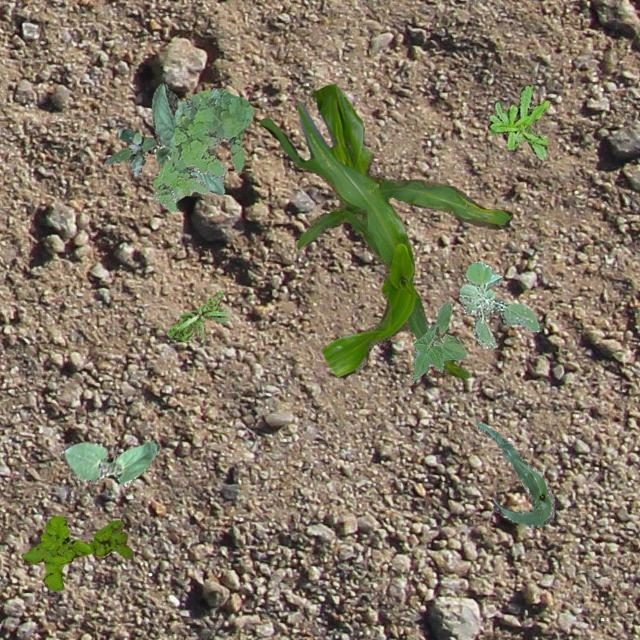crop: (258, 82, 512, 378), (150, 82, 223, 194), (476, 422, 554, 526), (410, 299, 466, 382), (60, 438, 158, 484)
weed: (152, 86, 252, 210), (21, 514, 132, 590), (458, 260, 538, 348), (486, 84, 548, 158), (166, 290, 228, 340), (104, 126, 156, 176)
